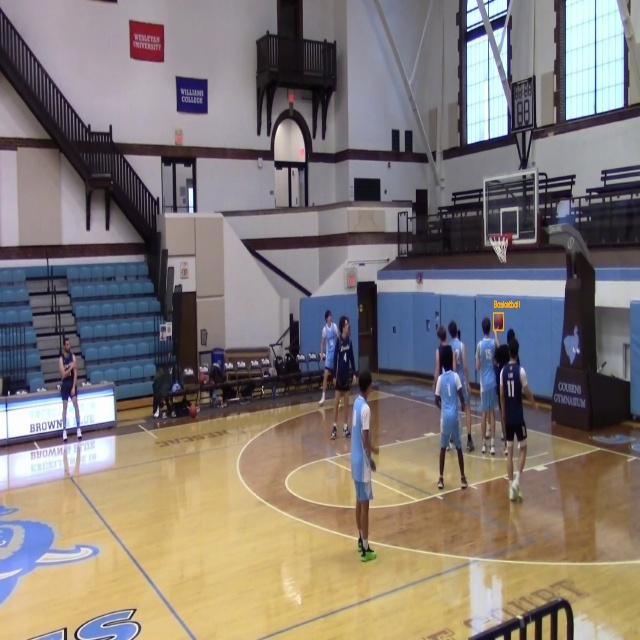Basketball: (494, 313, 504, 330)
